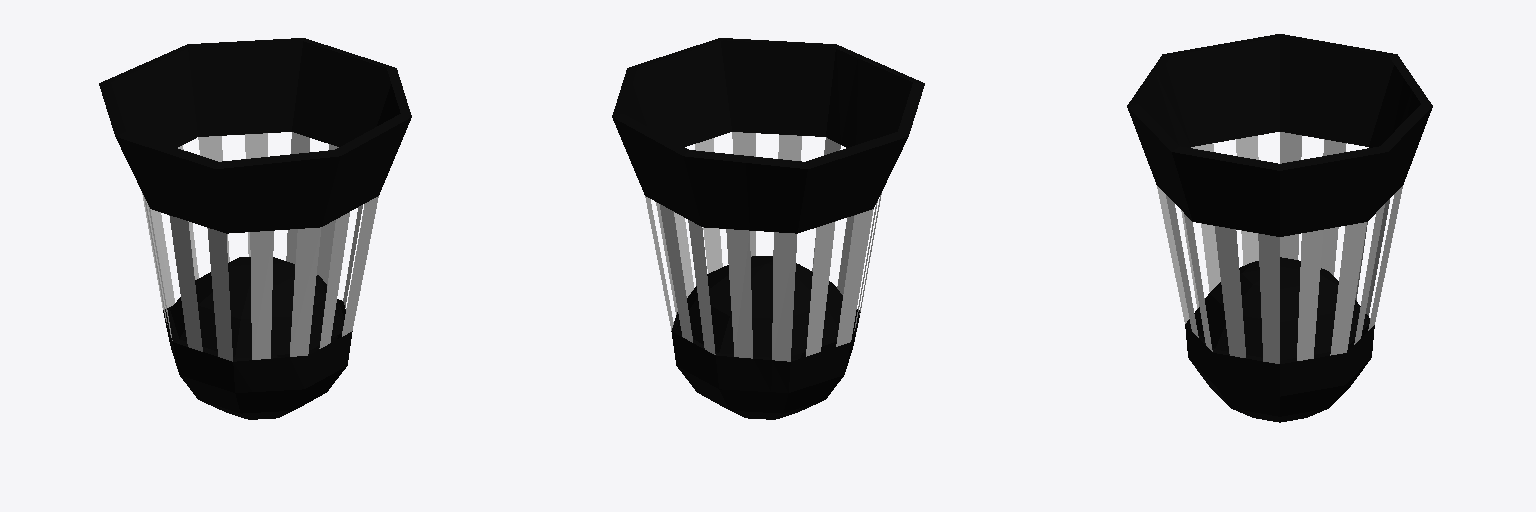
Rendered from shuttlecock.obj.
The picture shows the model from 3 angles: view 1: azimuth 30°, elevation 25°; view 2: azimuth 150°, elevation 25°; view 3: azimuth 270°, elevation 25°; orthographic projection.
Parts seen in each view (by area): view 1: Sphere; view 2: Sphere; view 3: Sphere.
Boxes of the visible parts, <box> form: Sphere: <box>99,38,411,419</box>; Sphere: <box>612,38,924,419</box>; Sphere: <box>1127,34,1432,422</box>.
Bounding box in the file's own units: 0.7375 × 0.7815 × 0.6949.